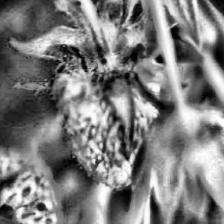Gray Mold: (14, 38, 173, 158)
